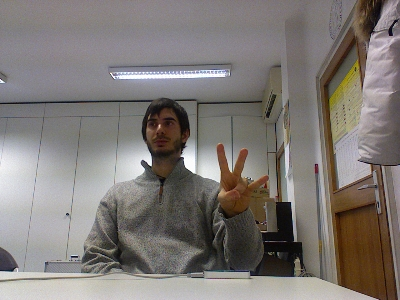观音: (214, 141, 269, 216)
